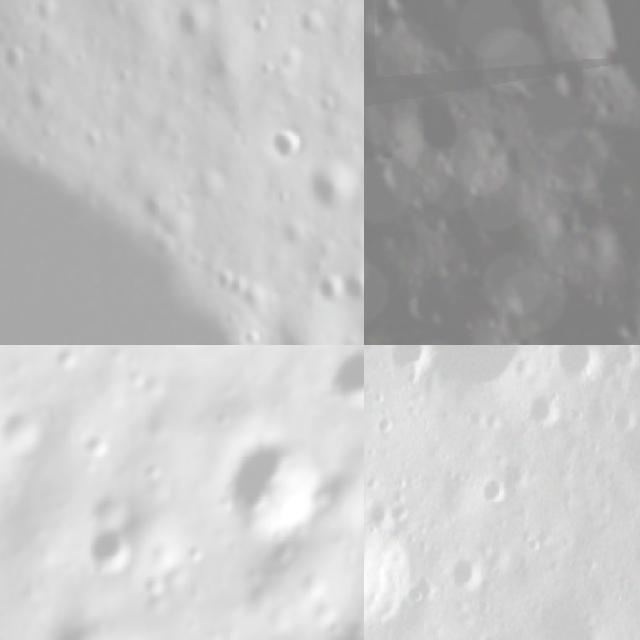crater: (208, 420, 334, 551), (430, 345, 553, 406), (364, 503, 422, 625), (498, 35, 570, 120), (511, 295, 620, 345), (364, 114, 400, 237), (80, 521, 143, 589), (531, 594, 622, 640), (312, 345, 364, 419), (0, 393, 45, 464), (554, 345, 609, 386), (317, 163, 361, 211), (448, 552, 494, 596), (72, 424, 115, 469), (385, 345, 434, 383), (264, 122, 306, 164), (527, 383, 563, 432), (46, 345, 89, 381), (472, 474, 509, 512), (364, 1, 398, 41), (609, 400, 640, 437), (405, 569, 436, 605), (364, 494, 395, 529), (387, 323, 436, 345), (318, 273, 343, 310), (381, 0, 426, 19), (370, 409, 400, 437), (390, 497, 414, 526), (483, 408, 507, 436), (475, 627, 503, 640), (631, 399, 640, 438)
